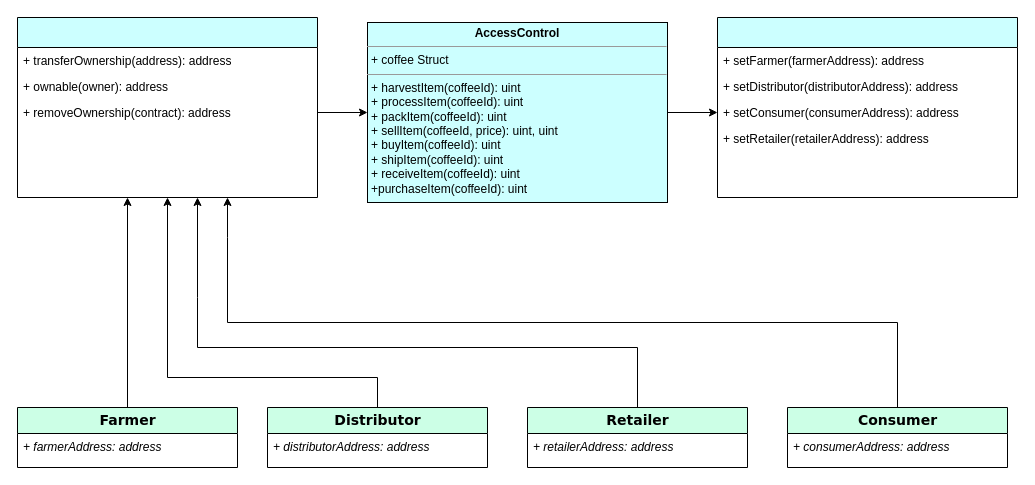
Image size: 1035x485. Some labels were removed from this diagram. Each missing label, with the box of its shape:
AccessControl: (716, 16, 1018, 198)
Core: (16, 16, 318, 198)
